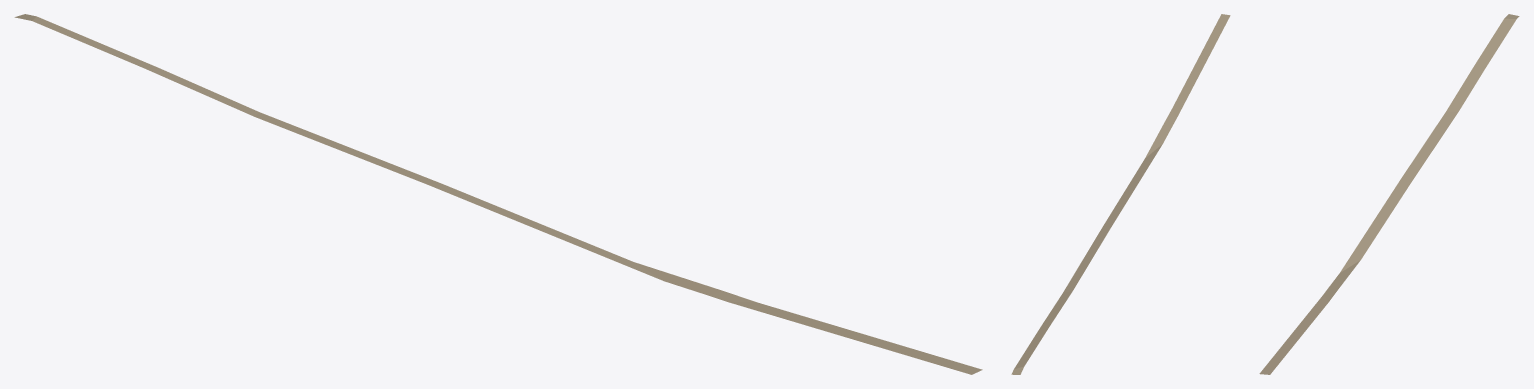
The model's file is farm_-39_-50_track.glb.
The picture shows the model from 3 angles, left to right: view 1: azimuth 30°, elevation 25°; view 2: azimuth 150°, elevation 25°; view 3: azimuth 330°, elevation 25°; orthographic projection. The views are drawn at different scales.
Visible parts, largest first — view 1: geometry_0; view 2: geometry_0; view 3: geometry_0.
Boxes of the visible parts, x1,y1,x2,y2 form: geometry_0: (14, 14, 982, 374); geometry_0: (1011, 14, 1230, 374); geometry_0: (1259, 14, 1519, 374).
Size of the model in its own units: 75.86 by 11.21 by 272.
